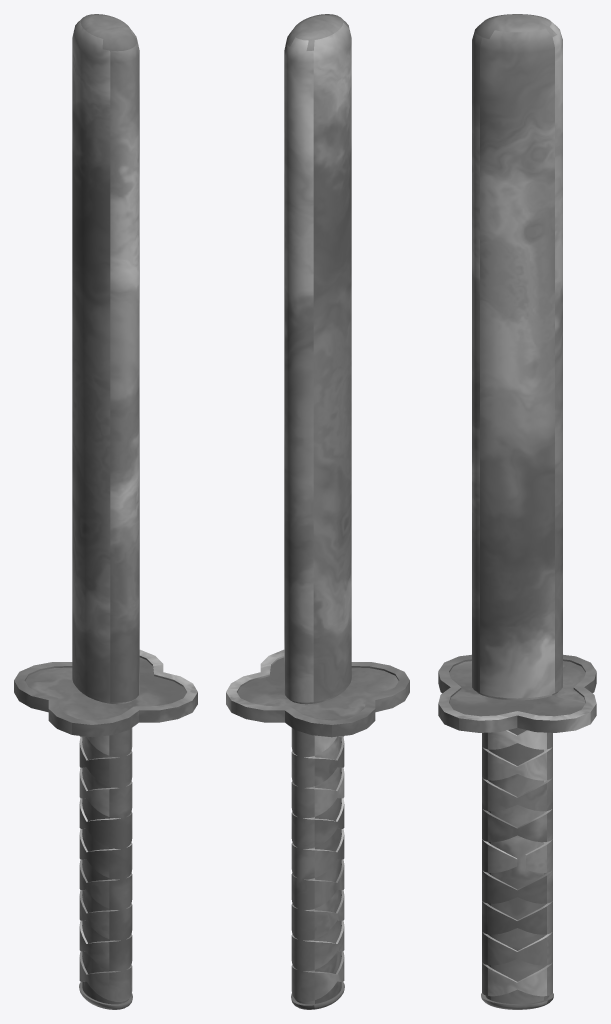
File: Sm_tanto_01.fbx
The picture shows the model from 3 angles, left to right: view 1: azimuth 30°, elevation 25°; view 2: azimuth 150°, elevation 25°; view 3: azimuth 270°, elevation 25°; orthographic projection.
Parts seen in each view (by area): view 1: Sm_tanto_01; view 2: Sm_tanto_01; view 3: Sm_tanto_01.
Part boxes in pixels (x1=…): Sm_tanto_01: x1=14, y1=14, x2=197, y2=1009; Sm_tanto_01: x1=226, y1=14, x2=409, y2=1009; Sm_tanto_01: x1=438, y1=14, x2=596, y2=1009.
Size of the model in its own units: 8.16 by 8.16 by 55.81.
Materials: 1 (1 with a texture image).
